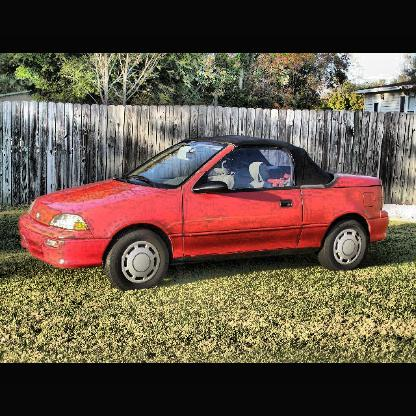Geo Metro Convertible 1993: (20, 137, 389, 289)
